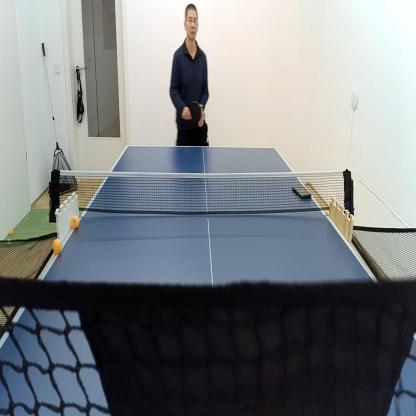Ball: (52, 239, 61, 253), (72, 214, 80, 227), (8, 229, 14, 237), (6, 239, 11, 244)
